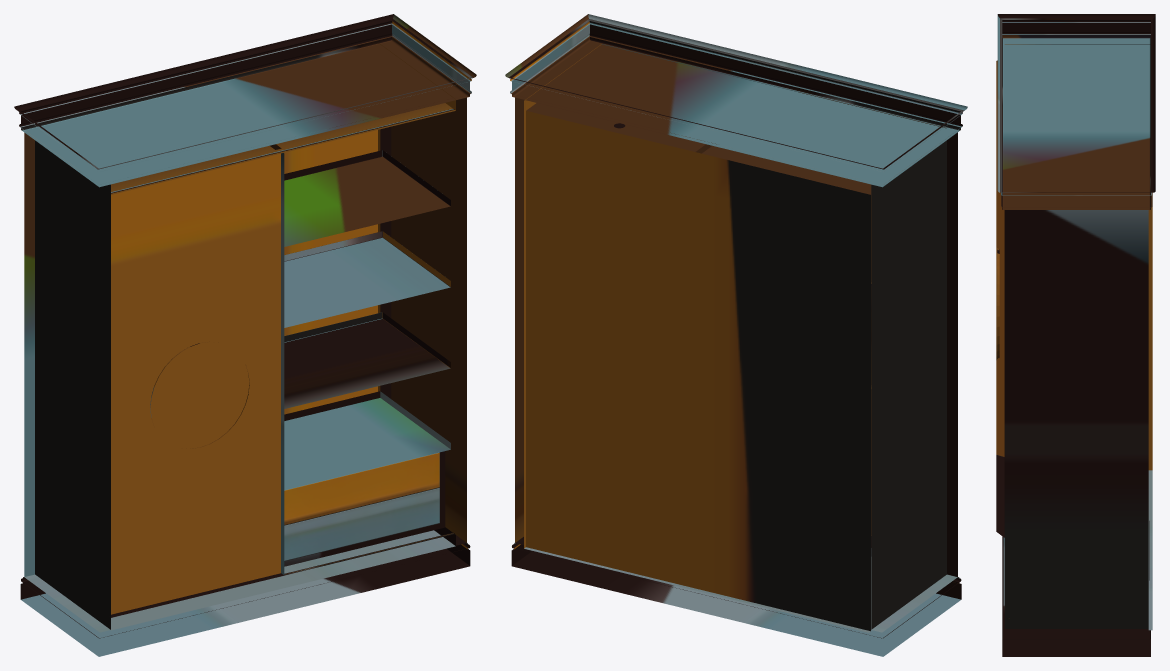
Rendered from edited_mesh.glb.
The picture shows the model from 3 angles, left to right: view 1: azimuth 30°, elevation 25°; view 2: azimuth 150°, elevation 25°; view 3: azimuth 270°, elevation 25°; orthographic projection. The views are drawn at different scales.
Parts seen in each view (by area): view 1: solid_001_wire; view 2: solid_001_wire; view 3: solid_001_wire.
Boxes of the visible parts, x1,y1,x2,y2 form: solid_001_wire: [14, 14, 476, 656]; solid_001_wire: [505, 14, 967, 656]; solid_001_wire: [996, 14, 1155, 656].
Bounding box in the file's own units: 1.15 × 1.43 × 0.4397.
1 material, 1 textured.
